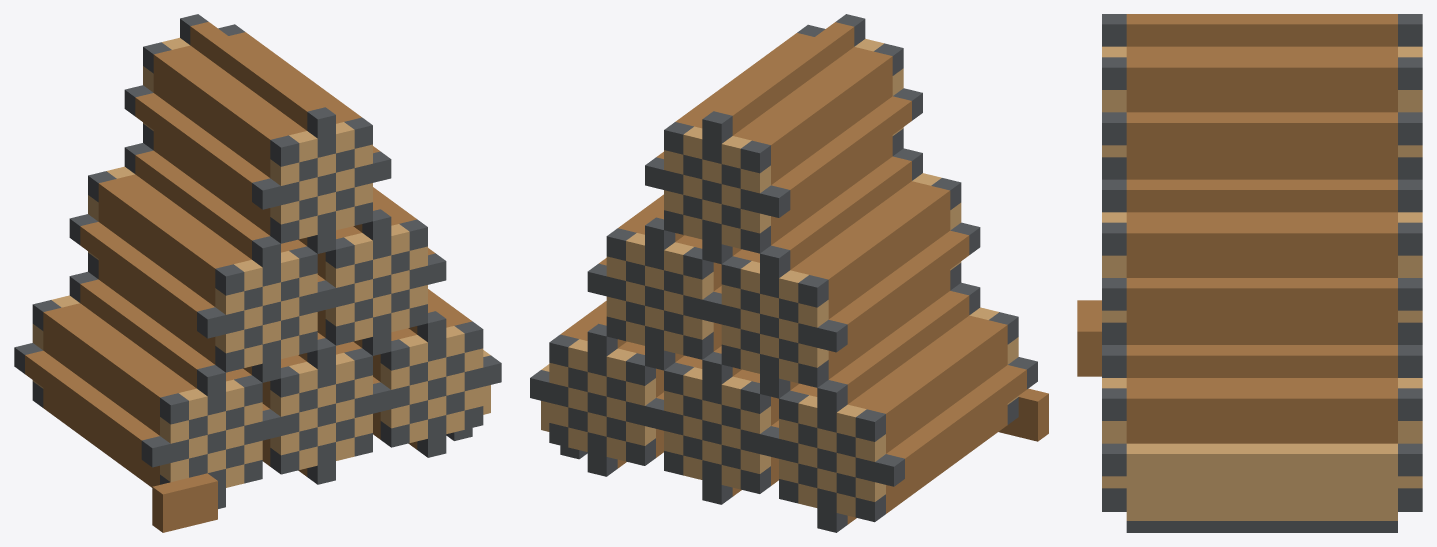
The model's file is hearthvale_furniture_log_stack.obj.
The picture shows the model from 3 angles, left to right: view 1: azimuth 30°, elevation 25°; view 2: azimuth 150°, elevation 25°; view 3: azimuth 270°, elevation 25°; orthographic projection. The views are drawn at different scales.
Parts seen in each view (by area): view 1: palette_2, palette_4, palette_3; view 2: palette_2, palette_4, palette_3; view 3: palette_2, palette_3, palette_4.
Part boxes in pixels (<box>): palette_2: <box>25,22,471,532</box>; palette_4: <box>14,14,501,508</box>; palette_3: <box>32,37,490,487</box>; palette_2: <box>560,22,1048,524</box>; palette_4: <box>530,14,1037,532</box>; palette_3: <box>541,38,1018,517</box>; palette_2: <box>1077,14,1397,443</box>; palette_3: <box>1102,46,1422,520</box>; palette_4: <box>1102,14,1422,532</box>.
Bounding box in the file's own units: 1.19 × 1.19 × 0.875.
